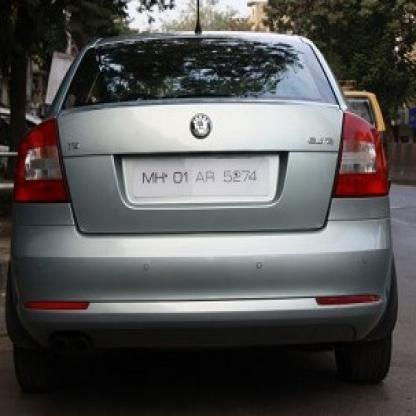license_plate: (130, 156, 272, 196)
